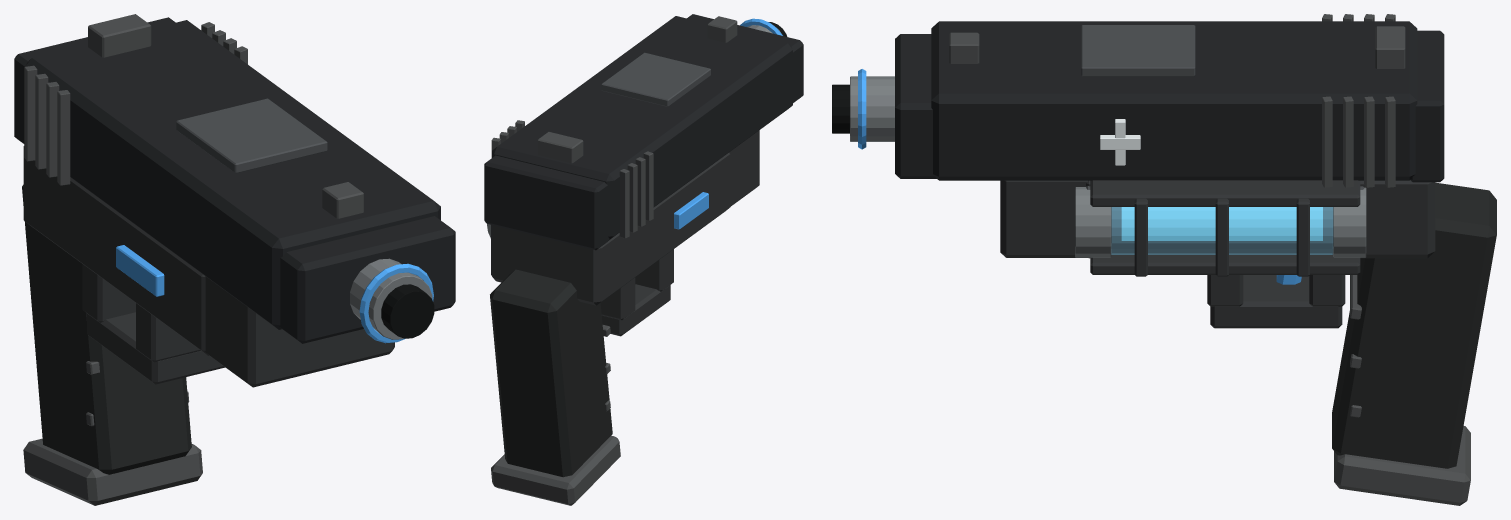
Rendered from MedicinePistol.glb.
3 views of the same model, side by side, from view 1: azimuth 30°, elevation 25°; view 2: azimuth 150°, elevation 25°; view 3: azimuth 270°, elevation 25° (orthographic). The views are drawn at different scales.
Parts seen in each view (by area): view 1: FTF_Tool_MedicinePistol_GlockStyle_BlackBlue_v4_Static; view 2: FTF_Tool_MedicinePistol_GlockStyle_BlackBlue_v4_Static; view 3: FTF_Tool_MedicinePistol_GlockStyle_BlackBlue_v4_Static.
Boxes of the visible parts, <box> form: FTF_Tool_MedicinePistol_GlockStyle_BlackBlue_v4_Static: <box>14,14,455,505</box>; FTF_Tool_MedicinePistol_GlockStyle_BlackBlue_v4_Static: <box>484,14,803,505</box>; FTF_Tool_MedicinePistol_GlockStyle_BlackBlue_v4_Static: <box>832,14,1496,505</box>.
Bounding box in the file's own units: 0.7873 × 1.64 × 2.21.
